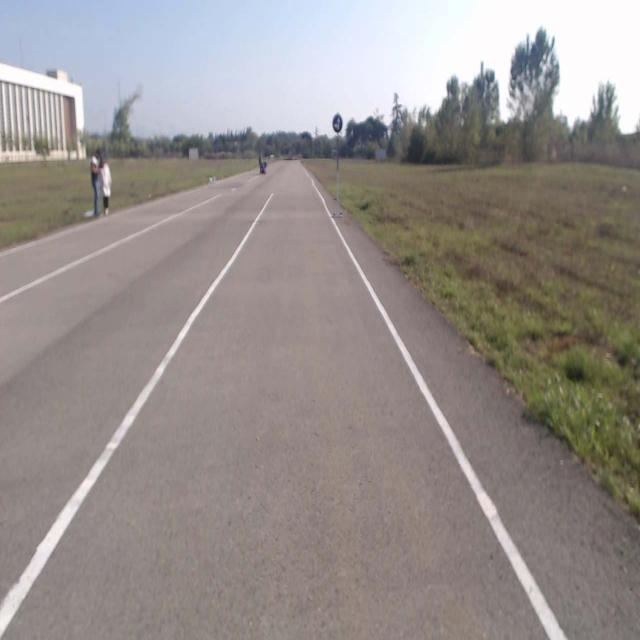ilerisol: (332, 113, 342, 132)
